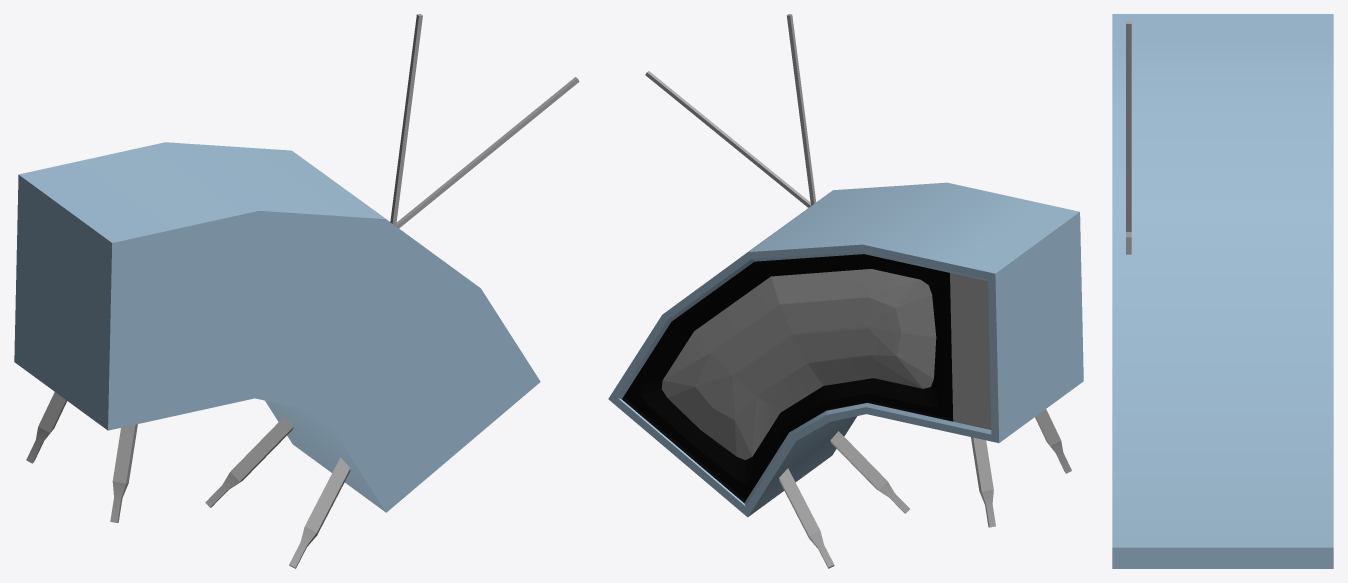
3 views of the same model, side by side, from view 1: azimuth 30°, elevation 25°; view 2: azimuth 150°, elevation 25°; view 3: azimuth 270°, elevation 25° (orthographic). The views are drawn at different scales.
Parts seen in each view (by area): view 1: polySurface26; view 2: polySurface26; view 3: polySurface26.
Part boxes in pixels (x1,y1,x2,y2): polySurface26: (14, 14, 579, 568); polySurface26: (608, 14, 1083, 568); polySurface26: (1112, 14, 1333, 568).
Size of the model in its own units: 136 by 142 by 46.25.
